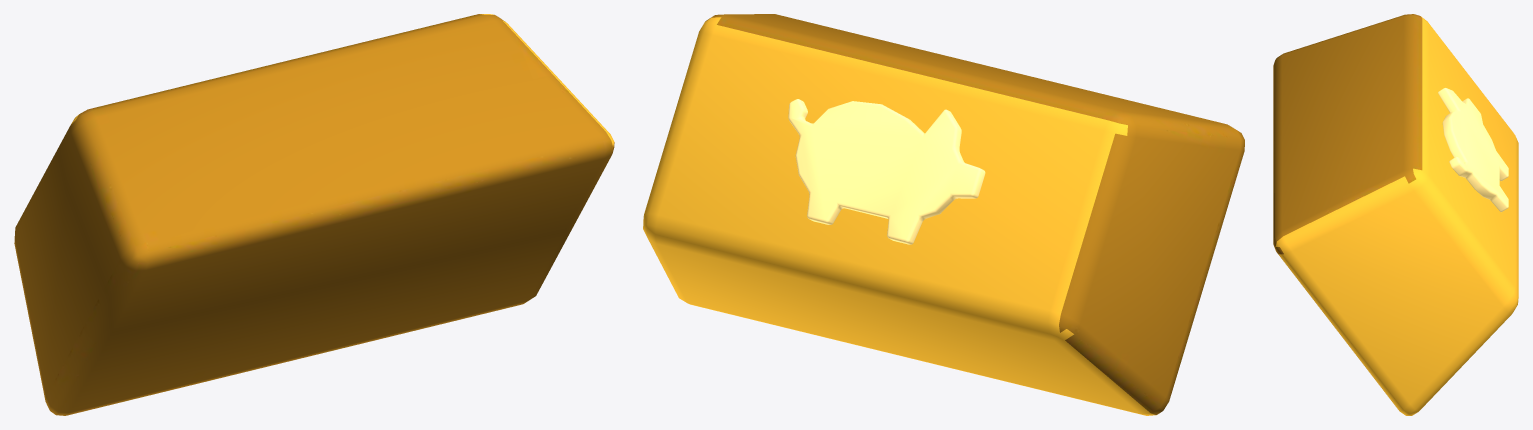
3 renders of one model, left to right at view 1: azimuth 30°, elevation 25°; view 2: azimuth 150°, elevation 25°; view 3: azimuth 270°, elevation 25°, orthographic. The views are drawn at different scales.
Parts seen in each view (by area): view 1: Warm_gold_sides; view 2: glow_Gold_lacquer, Warm_gold_sides, glow_Piggy_gold_highlight; view 3: glow_Gold_lacquer, Warm_gold_sides, glow_Piggy_gold_highlight.
Boxes of the visible parts, x1=… form: Warm_gold_sides: x1=14, y1=14, x2=614, y2=415; glow_Gold_lacquer: x1=643, y1=17, x2=1156, y2=415; Warm_gold_sides: x1=705, y1=14, x2=1244, y2=414; glow_Piggy_gold_highlight: x1=788, y1=99, x2=985, y2=244; glow_Gold_lacquer: x1=1275, y1=16, x2=1518, y2=415; Warm_gold_sides: x1=1273, y1=14, x2=1422, y2=254; glow_Piggy_gold_highlight: x1=1438, y1=88, x2=1508, y2=212.
Bounding box in the file's own units: 0.9265 × 0.5315 × 0.5055.
3 materials, 1 textured.
